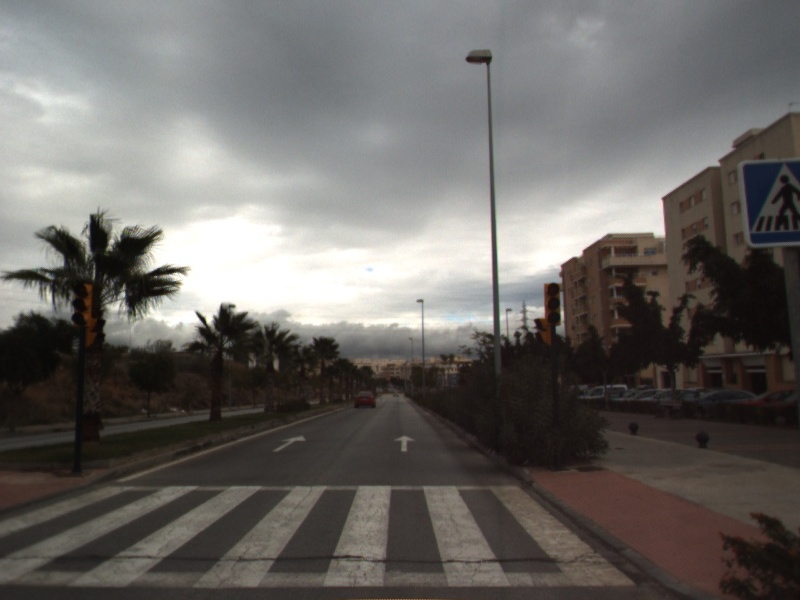STRAIGHT: (270, 433, 308, 454), (392, 433, 417, 453)
